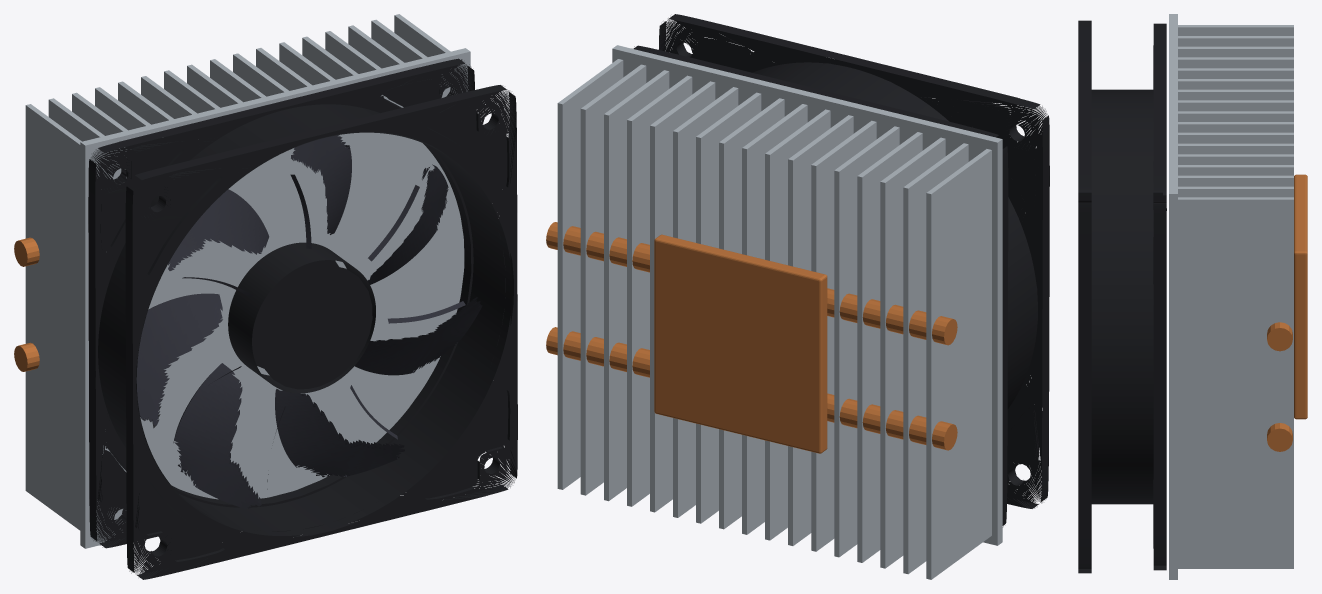
Rendered from cooler_lowprofile.glb.
3 views of the same model, side by side, from view 1: azimuth 30°, elevation 25°; view 2: azimuth 150°, elevation 25°; view 3: azimuth 270°, elevation 25° (orthographic). The views are drawn at different scales.
Parts seen in each view (by area): view 1: part_cooler_lowprofile; view 2: part_cooler_lowprofile; view 3: part_cooler_lowprofile.
Boxes of the visible parts, x1,y1,x2,y2 form: part_cooler_lowprofile: (14, 14, 517, 579); part_cooler_lowprofile: (546, 14, 1049, 579); part_cooler_lowprofile: (1078, 14, 1307, 579).
Bounding box in the file's own units: 0.95 × 0.92 × 0.4957.
4 materials, 4 textured.
